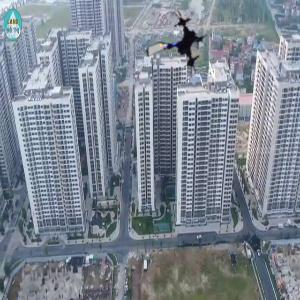drone: (141, 11, 216, 86)
